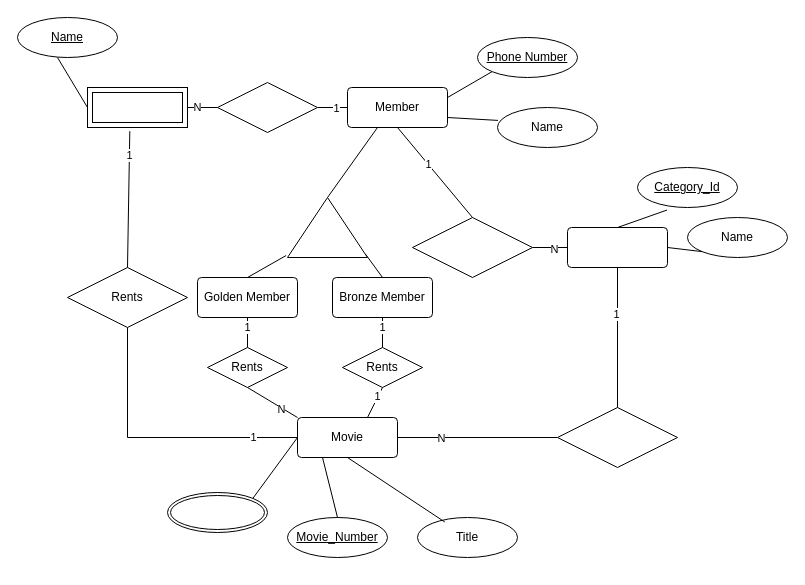
This 805x585 diagram has some shape labels left out. Here are the shapes that lost their labels. From the top down, the box of each, then its label:
(86, 86, 188, 128): Dependant
(216, 82, 318, 132): Dependentof
(286, 196, 368, 258): IsA
(412, 216, 532, 278): Gives
(566, 226, 668, 268): Category
(556, 406, 678, 468): Belongs to
(166, 492, 268, 532): Format
